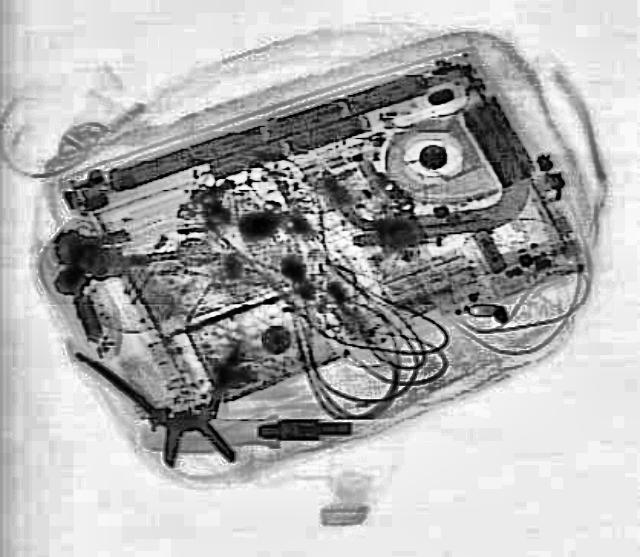Pliers: (67, 322, 273, 482)
